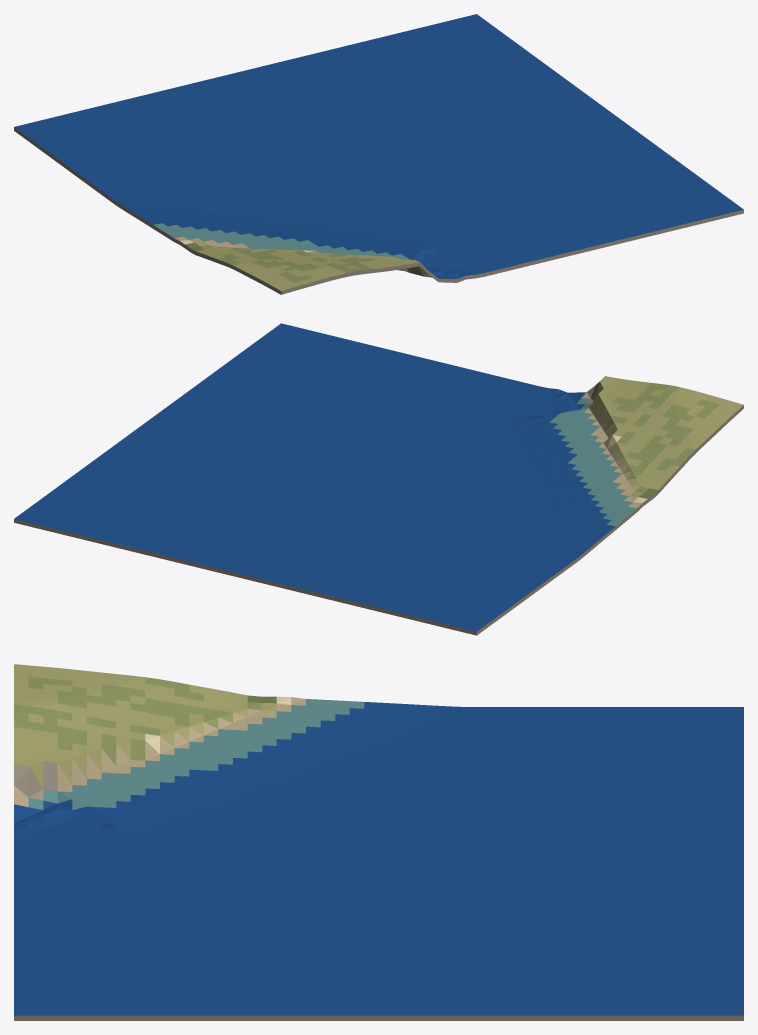
The model's file is parca_+10_+2-uzak.glb.
3 renders of one model, top to bottom at view 1: azimuth 30°, elevation 25°; view 2: azimuth 150°, elevation 25°; view 3: azimuth 270°, elevation 25°, orthographic. The views are drawn at different scales.
Parts seen in each view (by area): view 1: parca_+10_+2_arazi_uzak; view 2: parca_+10_+2_arazi_uzak; view 3: parca_+10_+2_arazi_uzak.
Boxes of the visible parts, left/top/right/bottom form: parca_+10_+2_arazi_uzak: left=14, top=14, right=743, bottom=294; parca_+10_+2_arazi_uzak: left=14, top=323, right=743, bottom=635; parca_+10_+2_arazi_uzak: left=14, top=664, right=743, bottom=1020.
Bounding box in the file's own units: 1000 × 77.11 × 1000.
